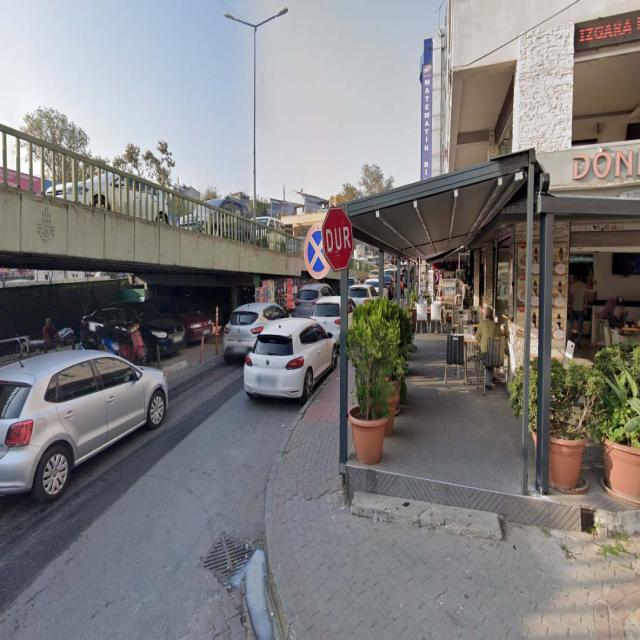dur: (323, 208, 352, 272)
